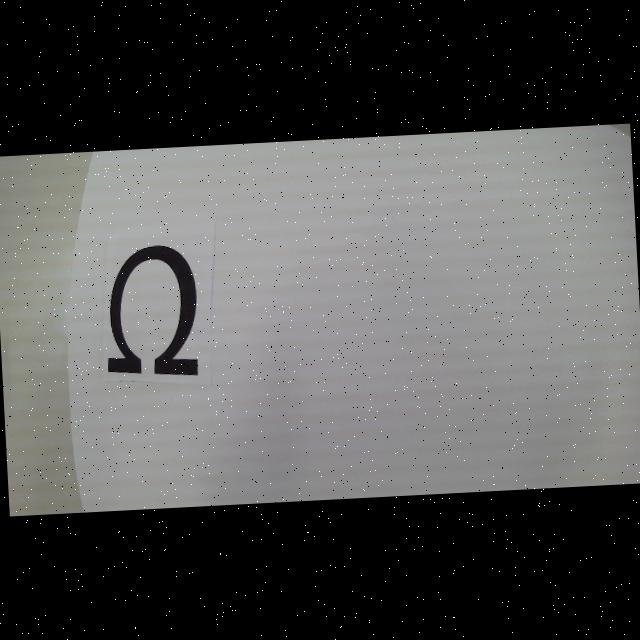OMEGA: (102, 243, 201, 379)
